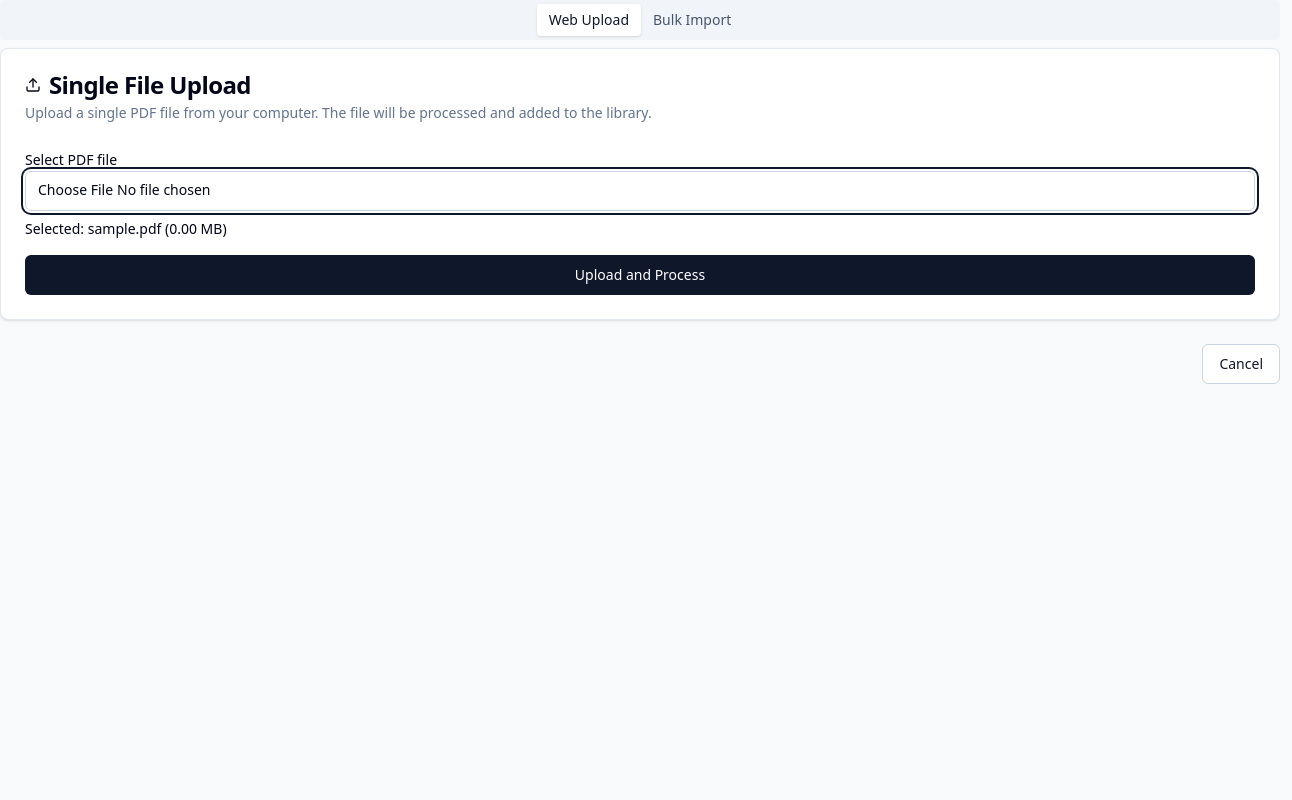
Test: ImportDialog › submits a multipart upload through the API and shows the queued import
The image size is (1292, 800).
Earlier steps of the test are not shown.
Click the button "Upload and Process" at x=640, y=275, box [25,255,1255,295]
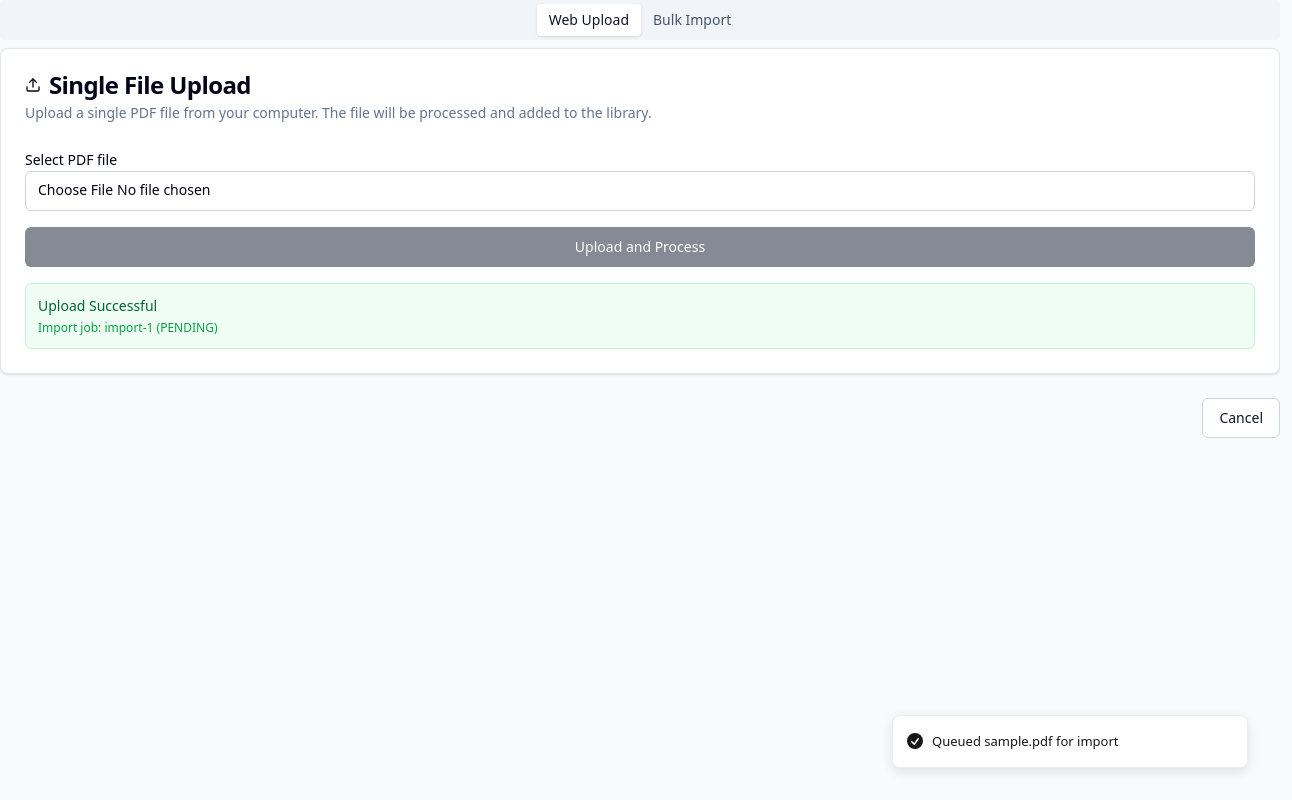
expect the text "Upload Successful" is shown: met, box [38,296,157,315]
expect the text "Import job: import-1 (PENDING)" is shown: met, box [38,319,218,336]
